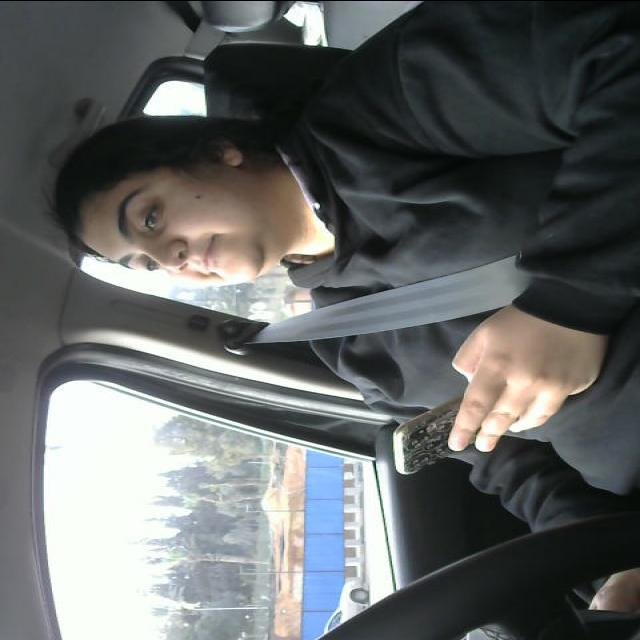mobile use: (386, 401, 498, 476)
